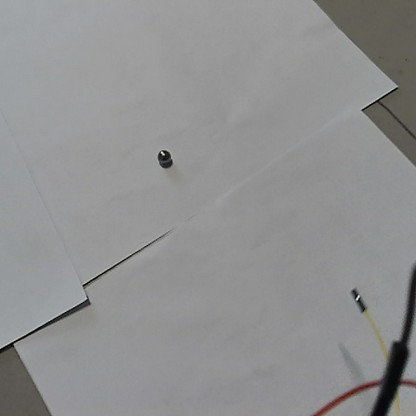ironball: (153, 150, 169, 164)
